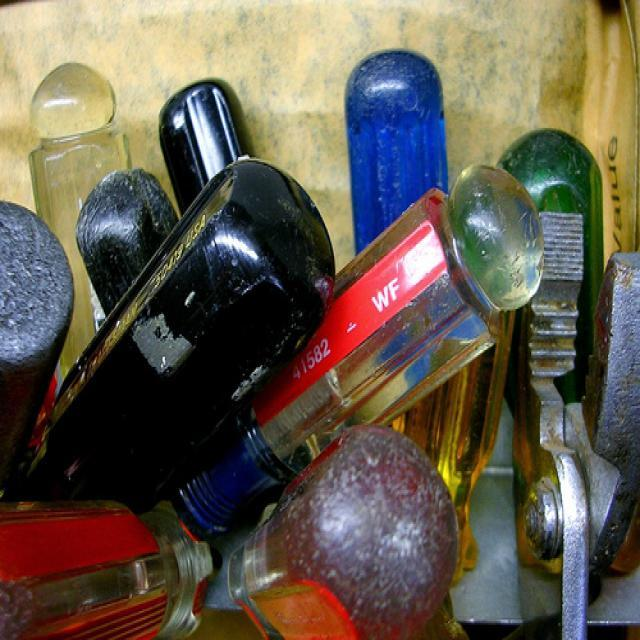pliers: (505, 187, 640, 640)
